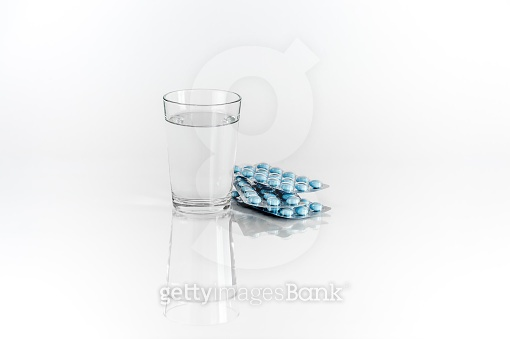glass of water: (154, 85, 245, 227)
